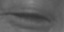LeftEyeFatigue: (1, 3, 57, 32)
